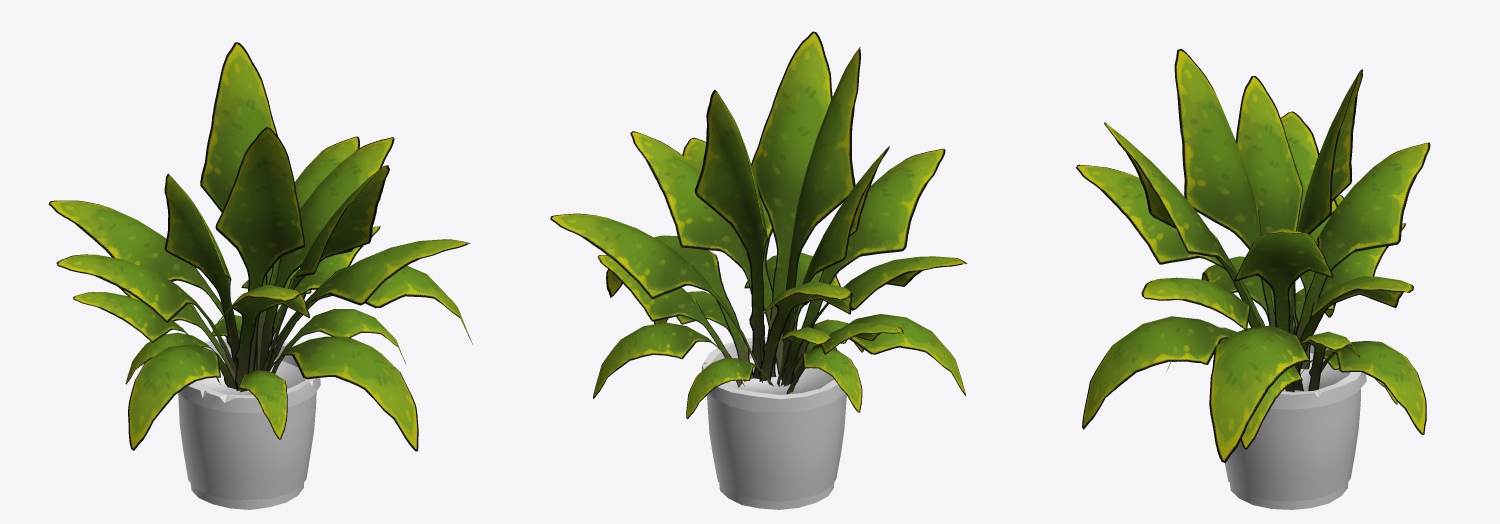
Rendered from PlantBig_01.fbx.
3 views of the same model, side by side, from view 1: azimuth 30°, elevation 25°; view 2: azimuth 150°, elevation 25°; view 3: azimuth 270°, elevation 25° (orthographic). The views are drawn at different scales.
Visible parts, largest first — view 1: Plane.093, Potbig_01.001; view 2: Plane.093, Potbig_01.001; view 3: Plane.093, Potbig_01.001.
Part boxes in pixels (x1=…): Plane.093: x1=48, y1=42, x2=472, y2=451; Potbig_01.001: x1=178, y1=338, x2=320, y2=509; Plane.093: x1=550, y1=31, x2=966, y2=419; Potbig_01.001: x1=701, y1=337, x2=846, y2=509; Plane.093: x1=1076, y1=49, x2=1430, y2=463; Potbig_01.001: x1=1212, y1=333, x2=1366, y2=509.
Size of the model in its own units: 1220 by 1151 by 1070.
